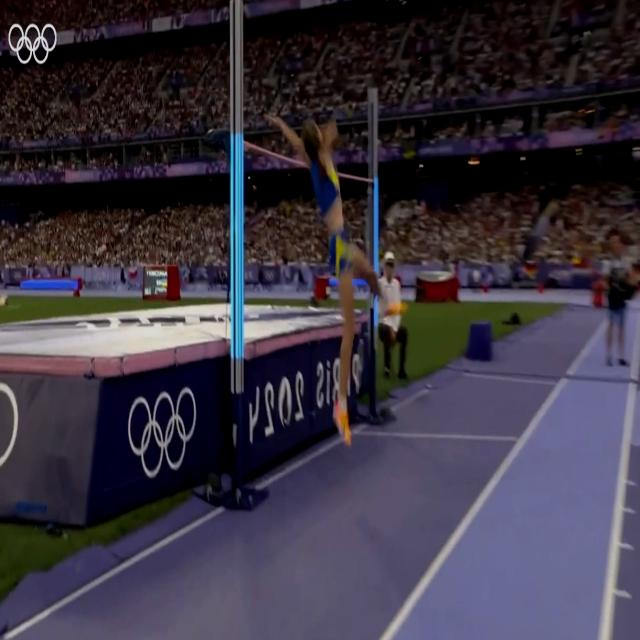jump: (263, 113, 409, 447)
